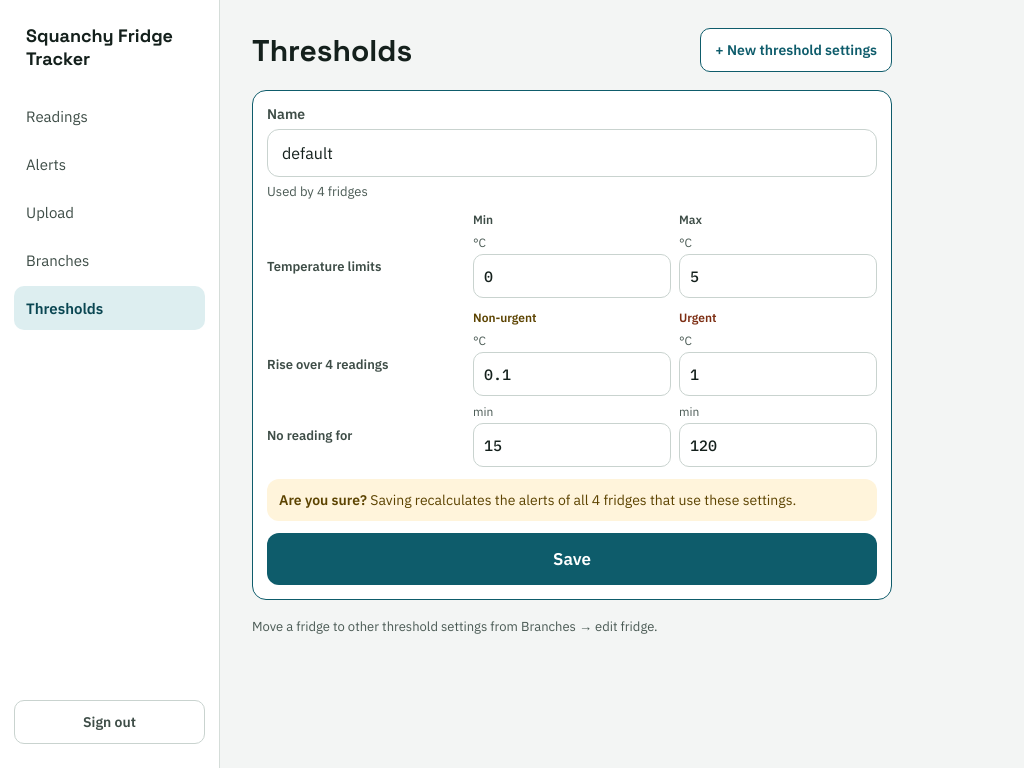
Test: ThresholdsPage new threshold settings › starts from the suggested limits and creates the settings with POST
This screenshot has width=1024, height=768.
Click the button "+ New threshold settings" at (796, 50), box [700,28,892,72]
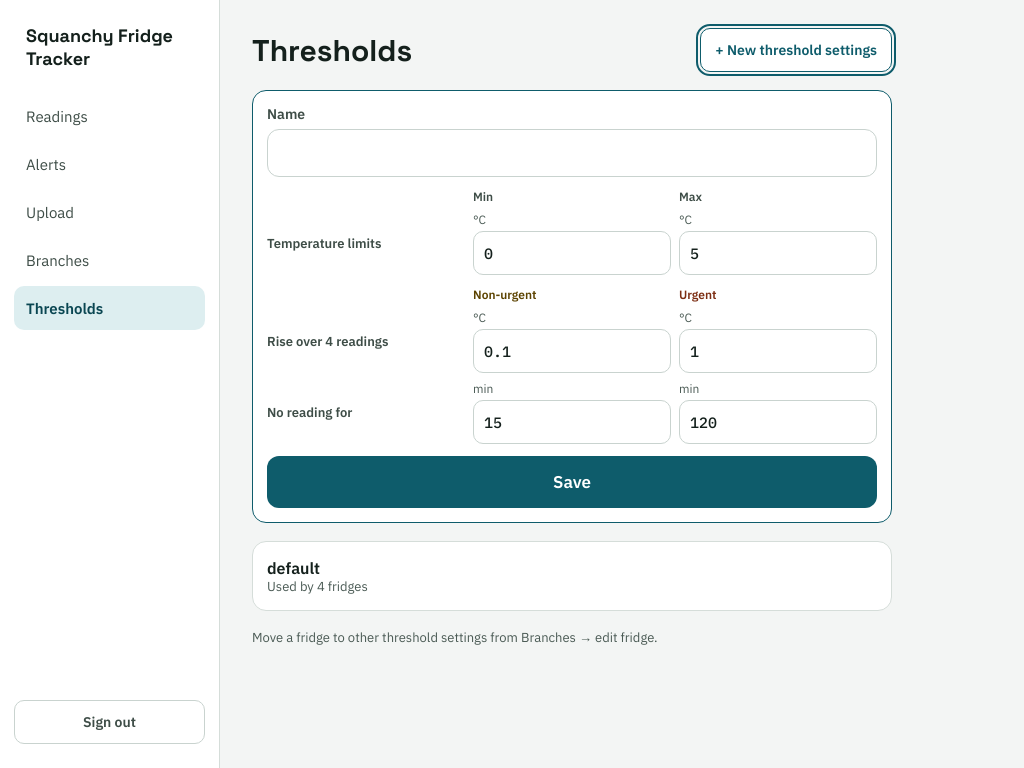
expect the field labelled "Name" is empty: met
expect the field named "Max temperature, degrees C" holds "5": met, box [679,231,877,275]
expect the button "default Used by 4 fridges" is shown: met, box [267,554,877,598]
Type "Dairy" into the field labelled "Name" at (572, 153), box [267,129,877,177]
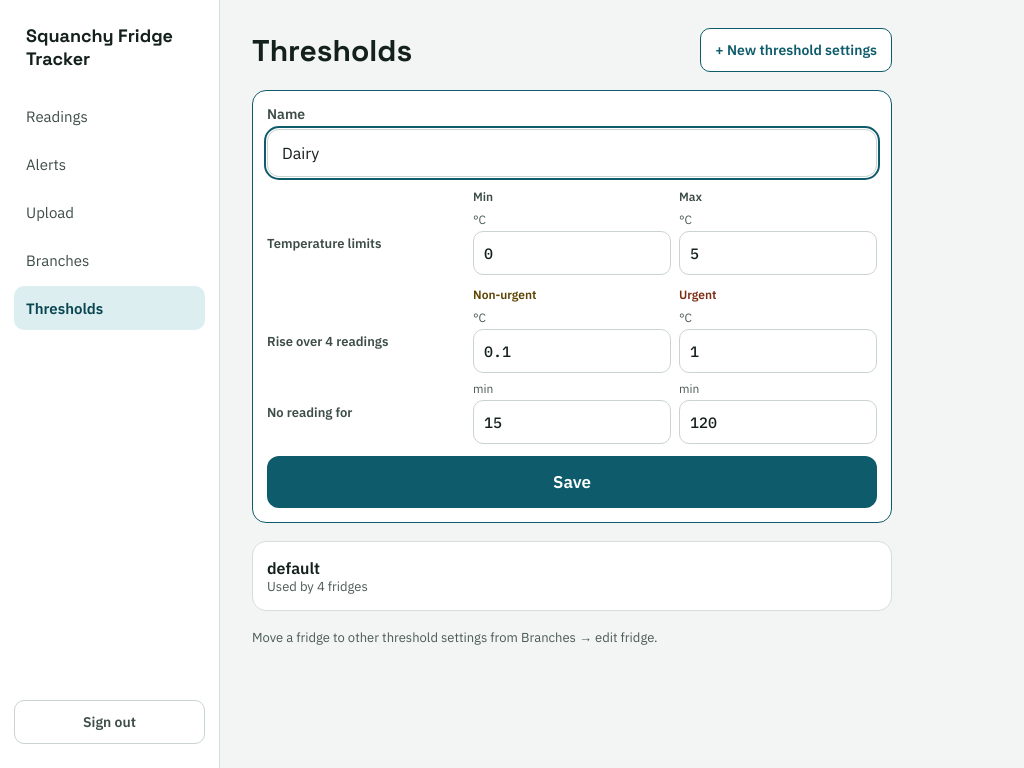
Click the button "Save" at (572, 482), box [267,456,877,508]
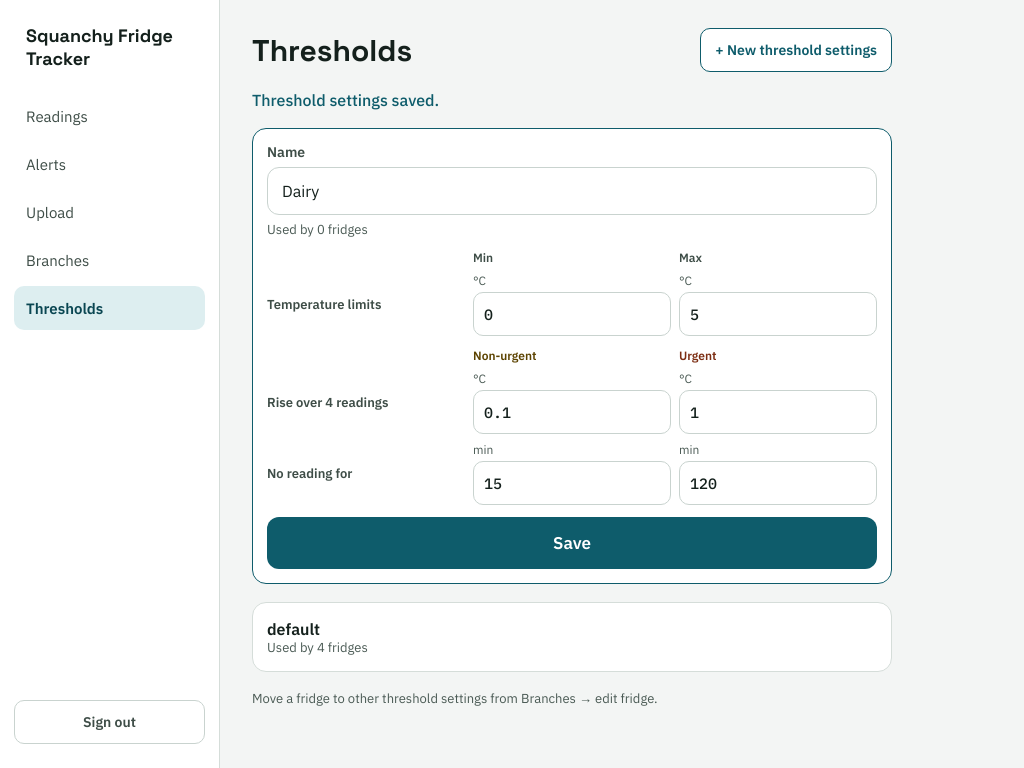
expect the text "Used by 0 fridges" is shown: met, box [267,221,368,238]
